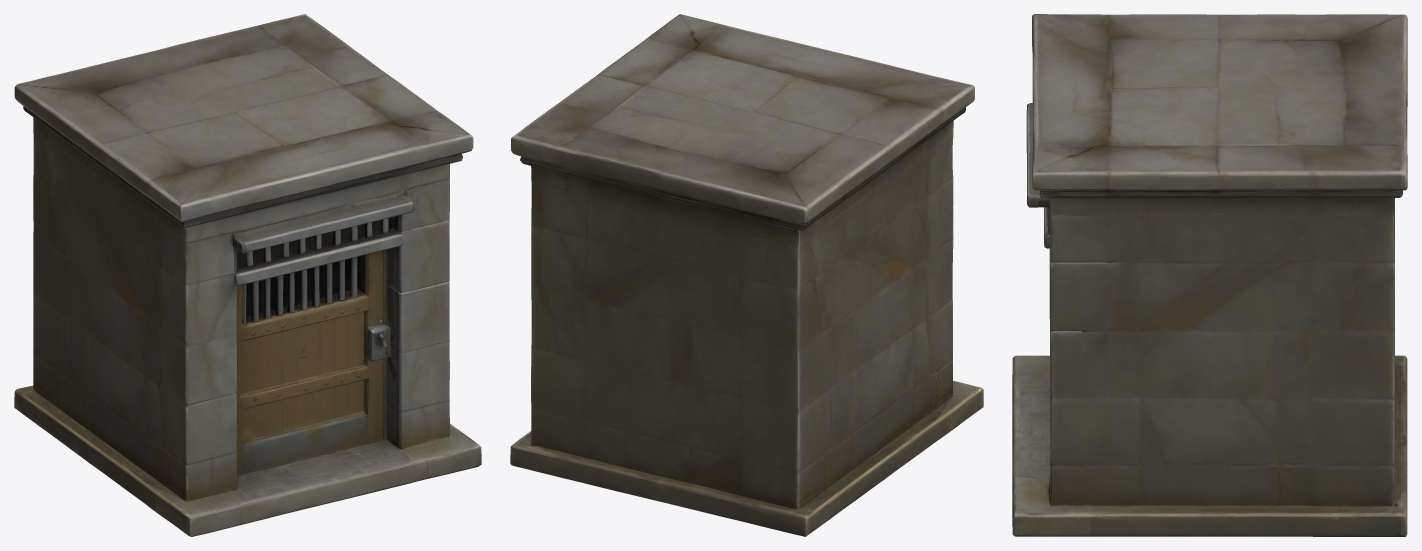
The model's file is poi_dungeon.glb.
3 views of the same model, side by side, from view 1: azimuth 30°, elevation 25°; view 2: azimuth 150°, elevation 25°; view 3: azimuth 270°, elevation 25° (orthographic). The views are drawn at different scales.
Parts seen in each view (by area): view 1: Dungeon entrance; view 2: Dungeon entrance; view 3: Dungeon entrance.
Part boxes in pixels (<box>): Dungeon entrance: <box>14,14,481,536</box>; Dungeon entrance: <box>510,14,983,536</box>; Dungeon entrance: <box>1012,14,1407,536</box>.
Size of the model in its own units: 1.89 by 2 by 1.96.
1 material, 1 textured.
